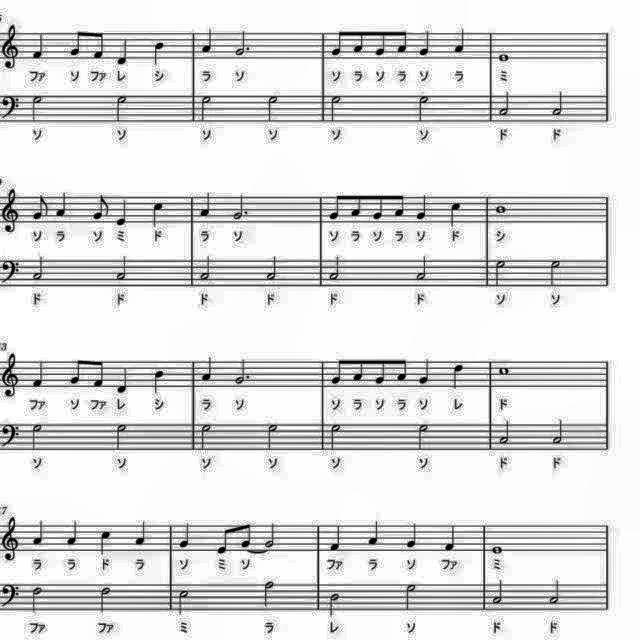Bass-clef: (0, 92, 24, 124), (0, 580, 24, 612), (0, 418, 24, 449), (0, 257, 24, 287)
Eighth-note: (90, 193, 114, 223), (29, 192, 51, 222), (328, 26, 347, 60), (67, 24, 85, 58), (213, 521, 231, 555), (67, 356, 85, 388), (372, 356, 390, 388), (372, 26, 390, 58), (368, 190, 386, 222), (329, 354, 347, 386), (325, 192, 343, 224), (92, 355, 108, 389), (88, 25, 104, 59), (238, 520, 255, 550), (392, 190, 408, 220), (351, 25, 367, 55), (350, 355, 366, 385), (394, 27, 410, 57), (348, 191, 364, 221), (393, 353, 409, 383)
Full-note: (488, 540, 506, 556), (496, 50, 512, 66), (495, 363, 513, 377), (492, 203, 508, 217)
Half-dot: (233, 26, 255, 58), (234, 356, 254, 388), (232, 190, 252, 220)
Half-note: (414, 92, 434, 124), (546, 574, 566, 606), (402, 580, 422, 612), (114, 95, 134, 127), (414, 422, 434, 453), (115, 254, 134, 286), (95, 582, 114, 614), (327, 92, 345, 124), (175, 586, 193, 618), (262, 577, 280, 609), (265, 92, 283, 124), (490, 578, 508, 610), (265, 422, 283, 454), (326, 422, 344, 454), (198, 422, 216, 454), (198, 92, 216, 124), (547, 259, 565, 291), (26, 90, 44, 122), (260, 520, 280, 548), (550, 88, 568, 119), (26, 421, 44, 452), (29, 582, 46, 614), (550, 418, 568, 448), (325, 254, 343, 284), (496, 89, 514, 119), (414, 254, 432, 284), (30, 255, 48, 285), (115, 422, 133, 452), (198, 254, 216, 284), (265, 254, 283, 284), (496, 419, 514, 448), (492, 258, 508, 290), (326, 590, 342, 618)
Quarter-note: (442, 519, 460, 553), (30, 29, 48, 62), (328, 522, 346, 554), (29, 359, 47, 391), (404, 518, 422, 550), (175, 518, 193, 550), (113, 197, 131, 229), (113, 34, 131, 66), (133, 520, 151, 552), (366, 516, 384, 548), (64, 516, 82, 548), (113, 365, 131, 397), (449, 22, 466, 54), (54, 191, 72, 221), (447, 199, 465, 229), (150, 199, 168, 229), (151, 368, 169, 397), (416, 26, 432, 58), (200, 353, 217, 383), (200, 25, 217, 55), (449, 362, 466, 392), (29, 517, 46, 547), (414, 191, 431, 221), (151, 40, 169, 68), (416, 357, 432, 388), (199, 189, 215, 219), (98, 526, 114, 556)
Treble-clef: (1, 514, 23, 564), (1, 23, 23, 73), (0, 349, 22, 398), (1, 188, 23, 236)
